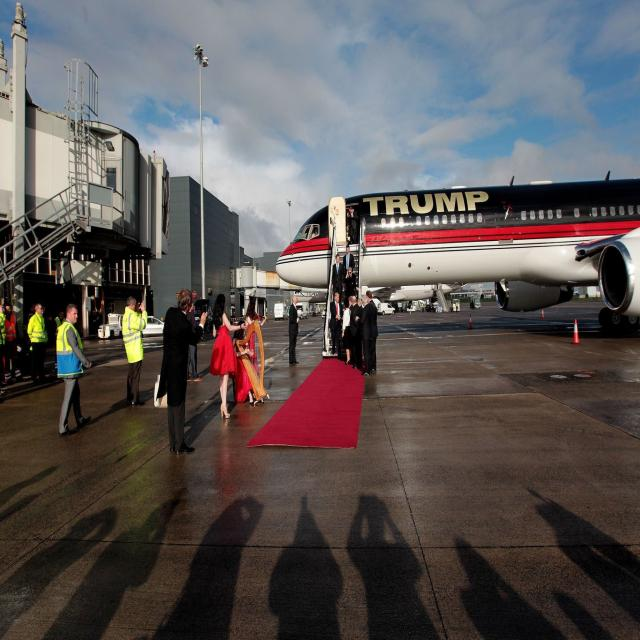body: (0, 461, 640, 640), (155, 288, 208, 457), (208, 292, 249, 418), (55, 302, 93, 437), (66, 384, 154, 440), (180, 383, 237, 453), (120, 294, 148, 406), (0, 368, 66, 404), (231, 319, 256, 405), (3, 300, 24, 386), (245, 300, 268, 377), (27, 302, 48, 383), (354, 293, 374, 377), (186, 300, 203, 382), (366, 290, 380, 373), (27, 300, 47, 354), (328, 292, 344, 354), (349, 295, 362, 368), (288, 294, 300, 366), (53, 308, 66, 372), (341, 297, 352, 365), (0, 296, 7, 398), (331, 253, 345, 303), (342, 244, 356, 279), (344, 266, 359, 298), (345, 206, 357, 243), (349, 206, 358, 245), (347, 296, 363, 312), (421, 302, 425, 313), (455, 300, 458, 312), (405, 302, 407, 308)
